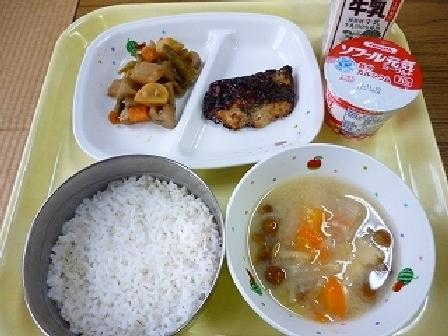Cup desserts: (315, 38, 422, 132)
Meat: (203, 63, 307, 137)
Milk: (325, 1, 408, 46)
Rice: (26, 167, 218, 331)
Soups: (226, 164, 412, 326)
vegetable based cooked food: (101, 25, 202, 131)
